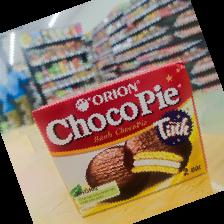Chocopie: (30, 60, 209, 218)
